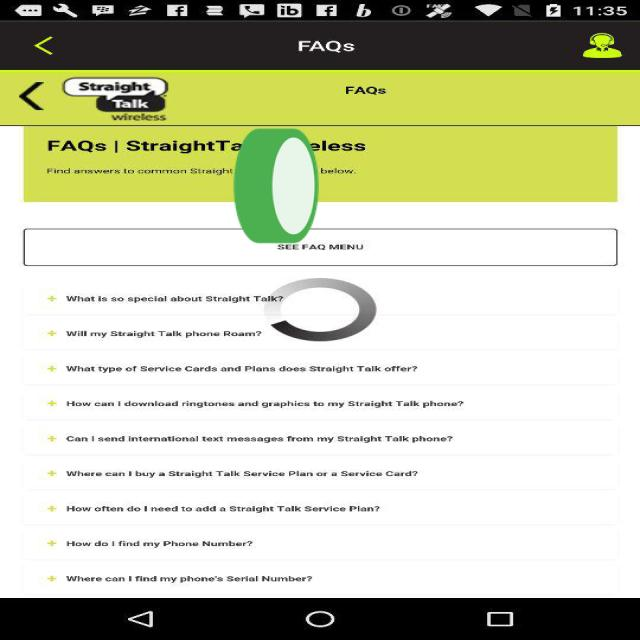social proof: (230, 85, 322, 296)
